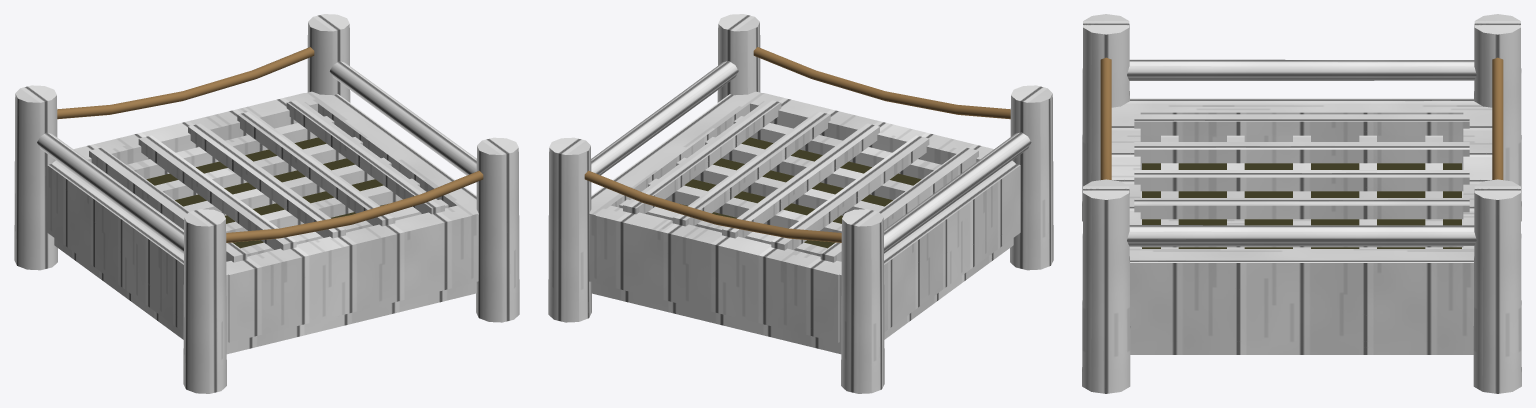
Rendered from incense_shrine.obj.
3 views of the same model, side by side, from view 1: azimuth 30°, elevation 25°; view 2: azimuth 150°, elevation 25°; view 3: azimuth 270°, elevation 25° (orthographic). The views are drawn at different scales.
Parts seen in each view (by area): view 1: source_component_003, source_component_001, source_component_006, source_component_008, source_component_007, source_component_002, source_component_004, source_component_000, source_component_019, source_component_017, source_component_022, source_component_015 (+12 smaller); view 2: source_component_004, source_component_001, source_component_007, source_component_009, source_component_006, source_component_002, source_component_003, source_component_000, source_component_019, source_component_022, source_component_017, source_component_015 (+12 smaller); view 3: source_component_002, source_component_009, source_component_008, source_component_001, source_component_023, source_component_022, source_component_011, source_component_013, source_component_015, source_component_017, source_component_005, source_component_007 (+12 smaller).
Part boxes in pixels (left/top/right/bottom): source_component_003: left=226, top=205, right=472, bottom=342; source_component_001: left=47, top=160, right=228, bottom=342; source_component_006: left=183, top=209, right=226, bottom=393; source_component_008: left=476, top=137, right=519, bottom=322; source_component_007: left=14, top=85, right=57, bottom=270; source_component_002: left=304, top=91, right=478, bottom=282; source_component_004: left=73, top=93, right=317, bottom=164; source_component_000: left=54, top=238, right=476, bottom=354; source_component_019: left=286, top=99, right=444, bottom=214; source_component_017: left=237, top=111, right=395, bottom=226; source_component_022: left=37, top=132, right=183, bottom=253; source_component_015: left=188, top=123, right=345, bottom=238; source_component_004: left=595, top=205, right=841, bottom=342; source_component_001: left=838, top=160, right=1020, bottom=342; source_component_007: left=841, top=209, right=884, bottom=393; source_component_009: left=548, top=137, right=591, bottom=322; source_component_006: left=1010, top=85, right=1053, bottom=270; source_component_002: left=589, top=91, right=763, bottom=282; source_component_003: left=750, top=93, right=993, bottom=164; source_component_000: left=591, top=238, right=1013, bottom=354; source_component_019: left=623, top=99, right=781, bottom=214; source_component_022: left=884, top=132, right=1031, bottom=253; source_component_017: left=672, top=111, right=830, bottom=226; source_component_015: left=722, top=123, right=879, bottom=238; source_component_002: left=1129, top=249, right=1474, bottom=341; source_component_009: left=1473, top=179, right=1521, bottom=393; source_component_008: left=1082, top=179, right=1130, bottom=393; source_component_001: left=1111, top=98, right=1492, bottom=169; source_component_023: left=1127, top=225, right=1476, bottom=246; source_component_022: left=1127, top=59, right=1476, bottom=80; source_component_011: left=1134, top=114, right=1469, bottom=135; source_component_013: left=1134, top=142, right=1469, bottom=163; source_component_015: left=1134, top=170, right=1469, bottom=191; source_component_017: left=1134, top=198, right=1469, bottom=219; source_component_005: left=1142, top=163, right=1461, bottom=248; source_component_007: left=1474, top=14, right=1521, bottom=221.
Bounding box in the file's own units: 1.74 × 0.84 × 1.73.
